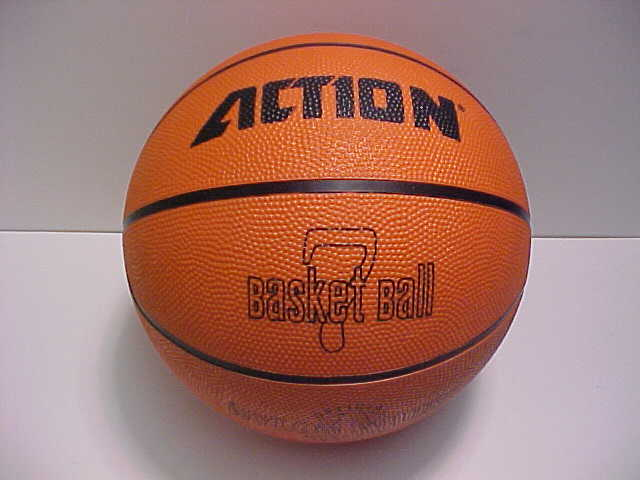basketball: (124, 31, 532, 443)
